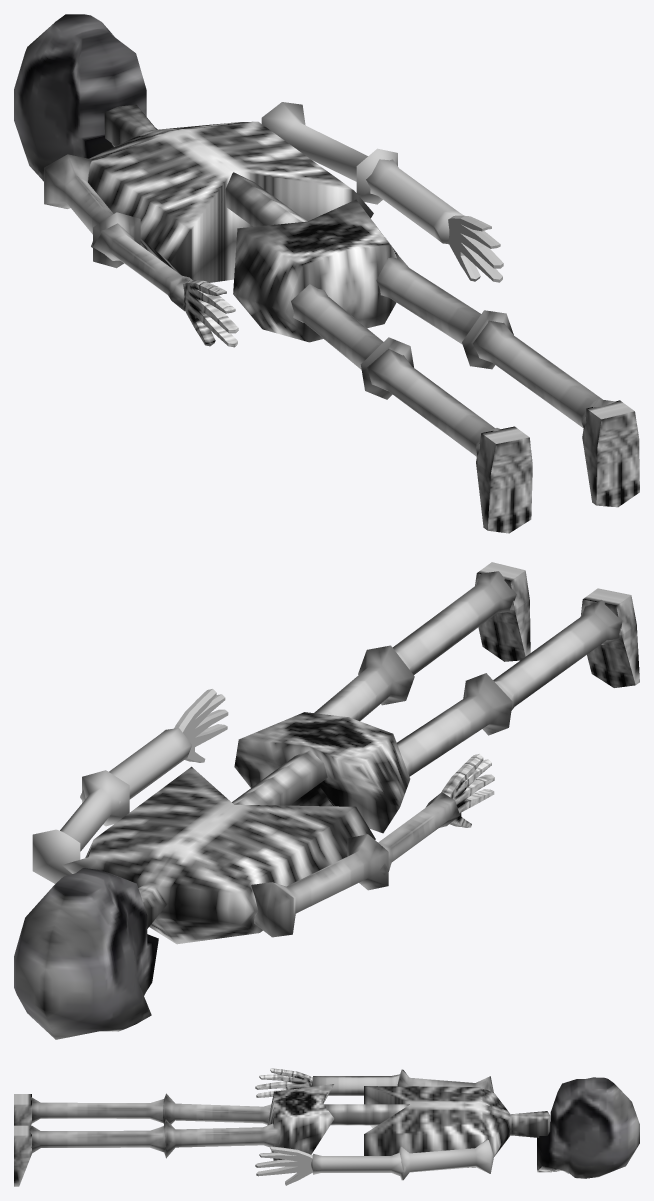
File: Human_skeleton.dae
3 views of the same model, one above another, from view 1: azimuth 30°, elevation 25°; view 2: azimuth 150°, elevation 25°; view 3: azimuth 270°, elevation 25° (orthographic). The views are drawn at different scales.
Visible parts, largest first — view 1: Body, Leg2, Head, Leg1, Hand2, Hand1; view 2: Body, Head, Leg1, Leg2, Hand1, Hand2; view 3: Body, Head, Leg2, Hand2, Leg1, Hand1.
Part boxes in pixels (x1,y1,x2,y2): Body: (88,104,397,342); Leg2: (376,254,639,507); Head: (14,14,157,181); Leg1: (291,284,532,533); Hand2: (261,102,503,282); Hand1: (44,154,238,347); Body: (62,712,410,944); Head: (14,868,158,1039); Leg1: (397,588,639,776); Leg2: (314,562,530,721); Hand1: (251,754,494,937); Hand2: (32,689,228,883); Body: (267,1084,550,1167); Head: (537,1077,639,1178); Leg2: (14,1119,279,1186); Hand2: (255,1139,493,1185); Leg1: (14,1093,271,1125); Hand1: (255,1068,493,1097).
Bounding box in the file's own units: 0.5545 × 1.62 × 0.258.
